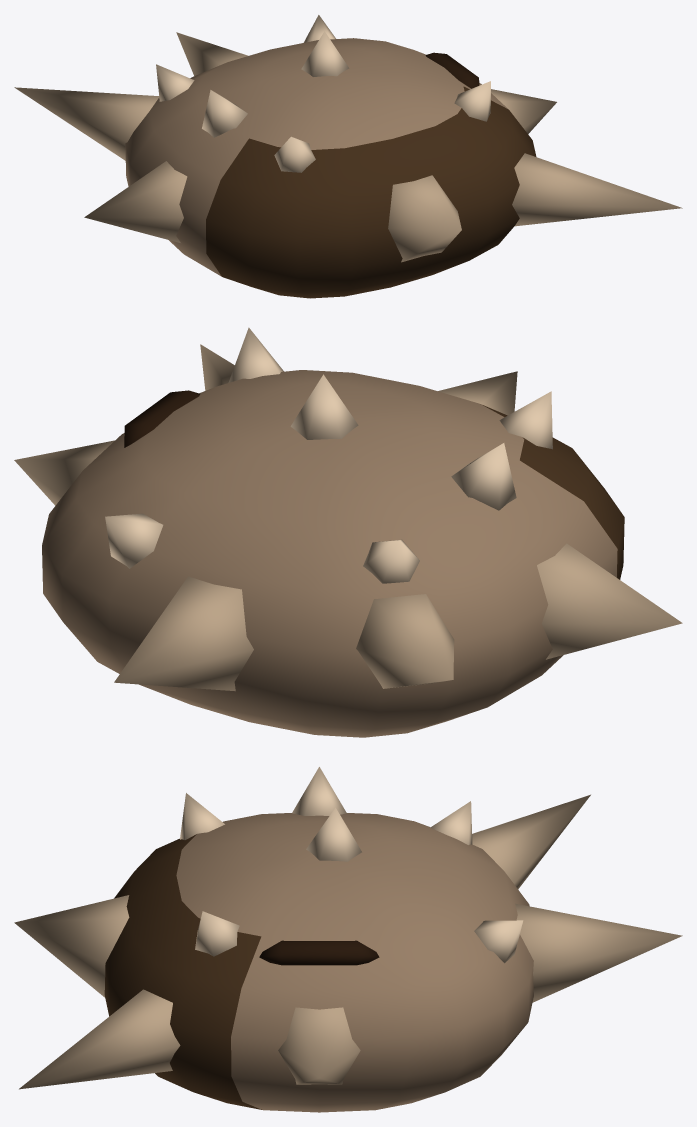
File: newshe-201.glb
3 renders of one model, top to bottom at view 1: azimuth 30°, elevation 25°; view 2: azimuth 150°, elevation 25°; view 3: azimuth 270°, elevation 25°, orthographic. The views are drawn at different scales.
Visible parts, largest first — view 1: newshe-201; view 2: newshe-201; view 3: newshe-201.
Part boxes in pixels (x1,y1,x2,y2): newshe-201: [14, 15, 682, 298]; newshe-201: [14, 327, 682, 737]; newshe-201: [14, 767, 682, 1112].
Bounding box in the file's own units: 1.83 × 0.7691 × 1.92.
